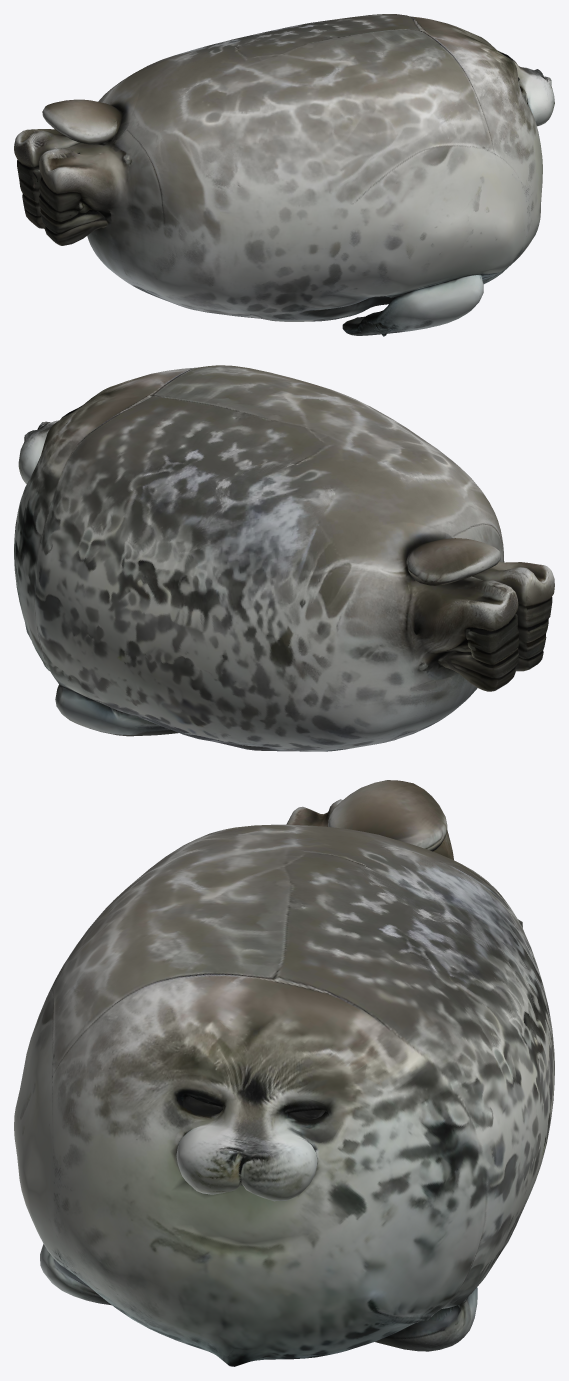
Rendered from yuki.glb.
3 renders of one model, top to bottom at view 1: azimuth 30°, elevation 25°; view 2: azimuth 150°, elevation 25°; view 3: azimuth 270°, elevation 25°, orthographic. The views are drawn at different scales.
Parts seen in each view (by area): view 1: tripo_node_06d1137e-2b73-4f42-9fae-8d512e8b1e2f; view 2: tripo_node_06d1137e-2b73-4f42-9fae-8d512e8b1e2f; view 3: tripo_node_06d1137e-2b73-4f42-9fae-8d512e8b1e2f.
Boxes of the visible parts, x1=… form: tripo_node_06d1137e-2b73-4f42-9fae-8d512e8b1e2f: x1=14, y1=14, x2=554, y2=336; tripo_node_06d1137e-2b73-4f42-9fae-8d512e8b1e2f: x1=14, y1=365, x2=554, y2=751; tripo_node_06d1137e-2b73-4f42-9fae-8d512e8b1e2f: x1=14, y1=780, x2=554, y2=1366.
Size of the model in its own units: 0.9999 by 0.5525 by 0.6633.
1 material, 1 textured.
